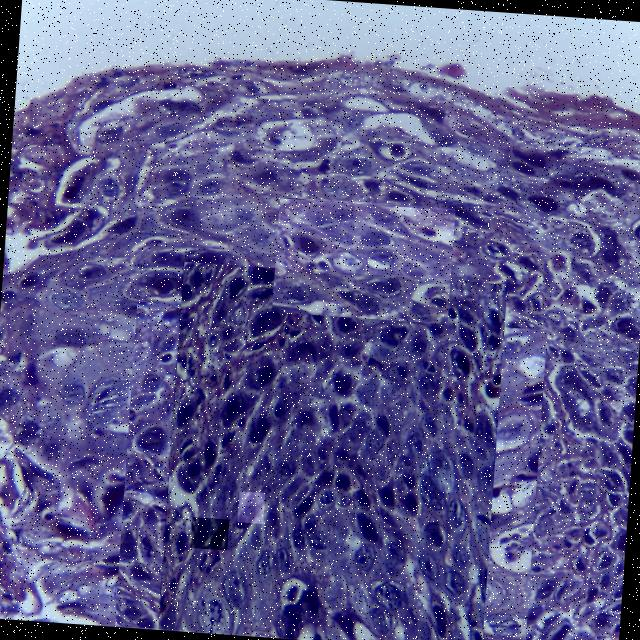Multiple Nucleol: (191, 517, 227, 549), (237, 492, 263, 523)
Nuclear Hyperchromatism: (167, 278, 498, 640), (277, 200, 451, 319)
